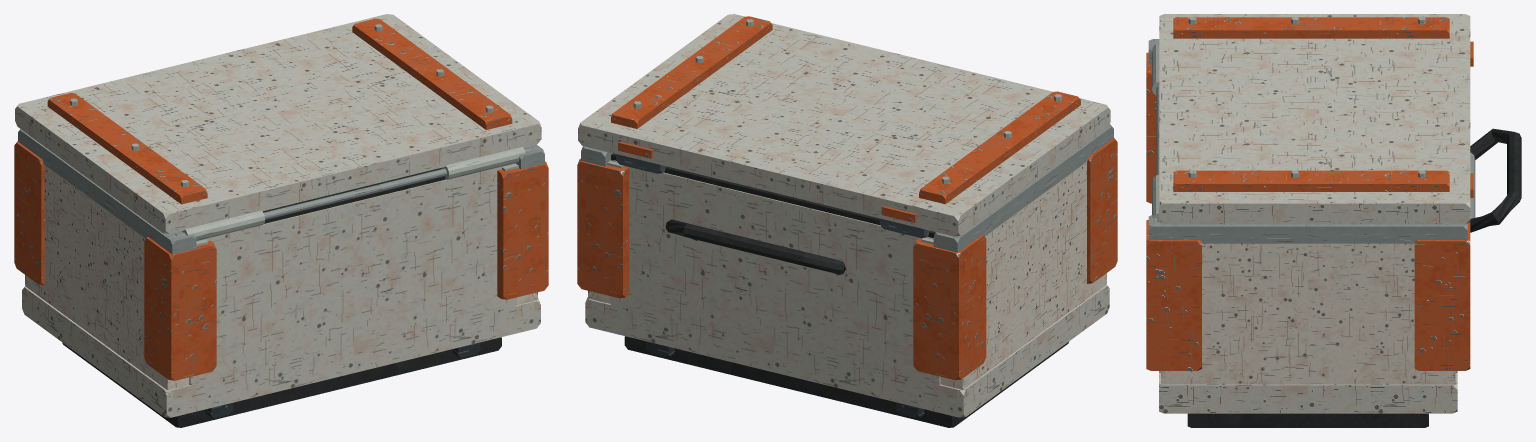
The model's file is salvage_tub.glb.
3 views of the same model, side by side, from view 1: azimuth 30°, elevation 25°; view 2: azimuth 150°, elevation 25°; view 3: azimuth 270°, elevation 25° (orthographic). The views are drawn at different scales.
Parts seen in each view (by area): view 1: lid_shell_rover_white, wall_Back_rover_white, base_pan_rover_white, body_wall_L_white_painted, corner_armour_2_orange, corner_armour_3_orange, lid_corner_strip_R_orange, lid_corner_strip_L_orange, corner_armour_0_orange, impact_extrusion_L_alloy, foot_rail_L_black_rubber, foot_rail_R_black_rubber (+4 smaller); view 2: lid_shell_rover_white, wall_Front_rover_white, base_pan_rover_white, body_wall_L_white_painted, corner_armour_0_orange, corner_armour_1_orange, lid_corner_strip_R_orange, lid_corner_strip_L_orange, corner_armour_2_orange, impact_extrusion_L_alloy, handle_loop_black_rubber, foot_rail_R_black_rubber (+2 smaller); view 3: lid_shell_rover_white, body_wall_R_white_painted, base_pan_rover_white, corner_armour_1_orange, corner_armour_3_orange, impact_extrusion_R_alloy, lid_corner_strip_L_orange, lid_corner_strip_R_orange, foot_rail_R_black_rubber, handle_loop_black_rubber, corner_armour_2_orange, hinge_knuckle_L_satin_steel (+1 smaller).
Boxes of the visible parts, <box> form: lid_shell_rover_white: <box>15,14,541,233</box>; wall_Back_rover_white: <box>189,163,516,386</box>; base_pan_rover_white: <box>22,286,540,417</box>; body_wall_L_white_painted: <box>25,165,189,389</box>; corner_armour_2_orange: <box>144,236,216,380</box>; corner_armour_3_orange: <box>497,161,548,299</box>; lid_corner_strip_R_orange: <box>352,18,512,129</box>; lid_corner_strip_L_orange: <box>47,93,207,204</box>; corner_armour_0_orange: <box>14,141,44,285</box>; impact_extrusion_L_alloy: <box>18,129,196,254</box>; foot_rail_L_black_rubber: <box>62,342,356,427</box>; foot_rail_R_black_rubber: <box>323,337,501,391</box>; lid_shell_rover_white: <box>578,14,1110,236</box>; wall_Front_rover_white: <box>609,160,940,384</box>; base_pan_rover_white: <box>585,284,1109,417</box>; body_wall_L_white_painted: <box>940,162,1106,389</box>; corner_armour_0_orange: <box>913,234,986,379</box>; corner_armour_1_orange: <box>577,158,629,298</box>; lid_corner_strip_R_orange: <box>611,16,772,128</box>; lid_corner_strip_L_orange: <box>919,91,1080,204</box>; corner_armour_2_orange: <box>1087,138,1117,283</box>; impact_extrusion_L_alloy: <box>933,124,1113,252</box>; handle_loop_black_rubber: <box>665,219,845,275</box>; foot_rail_R_black_rubber: <box>624,336,804,391</box>; lid_shell_rover_white: <box>1159,14,1470,224</box>; body_wall_R_white_painted: <box>1161,243,1455,384</box>; base_pan_rover_white: <box>1159,372,1457,413</box>; corner_armour_1_orange: <box>1414,222,1470,370</box>; corner_armour_3_orange: <box>1146,219,1201,370</box>; impact_extrusion_R_alloy: <box>1148,215,1467,243</box>; lid_corner_strip_L_orange: <box>1173,17,1449,38</box>; lid_corner_strip_R_orange: <box>1173,170,1449,191</box>; foot_rail_R_black_rubber: <box>1187,413,1428,427</box>; handle_loop_black_rubber: <box>1470,128,1521,232</box>; corner_armour_2_orange: <box>1146,52,1156,203</box>; hinge_knuckle_L_satin_steel: <box>1152,43,1159,95</box>.
Size of the model in its own units: 0.55 by 0.3385 by 0.4589.
Materials: 10 (10 with a texture image).
